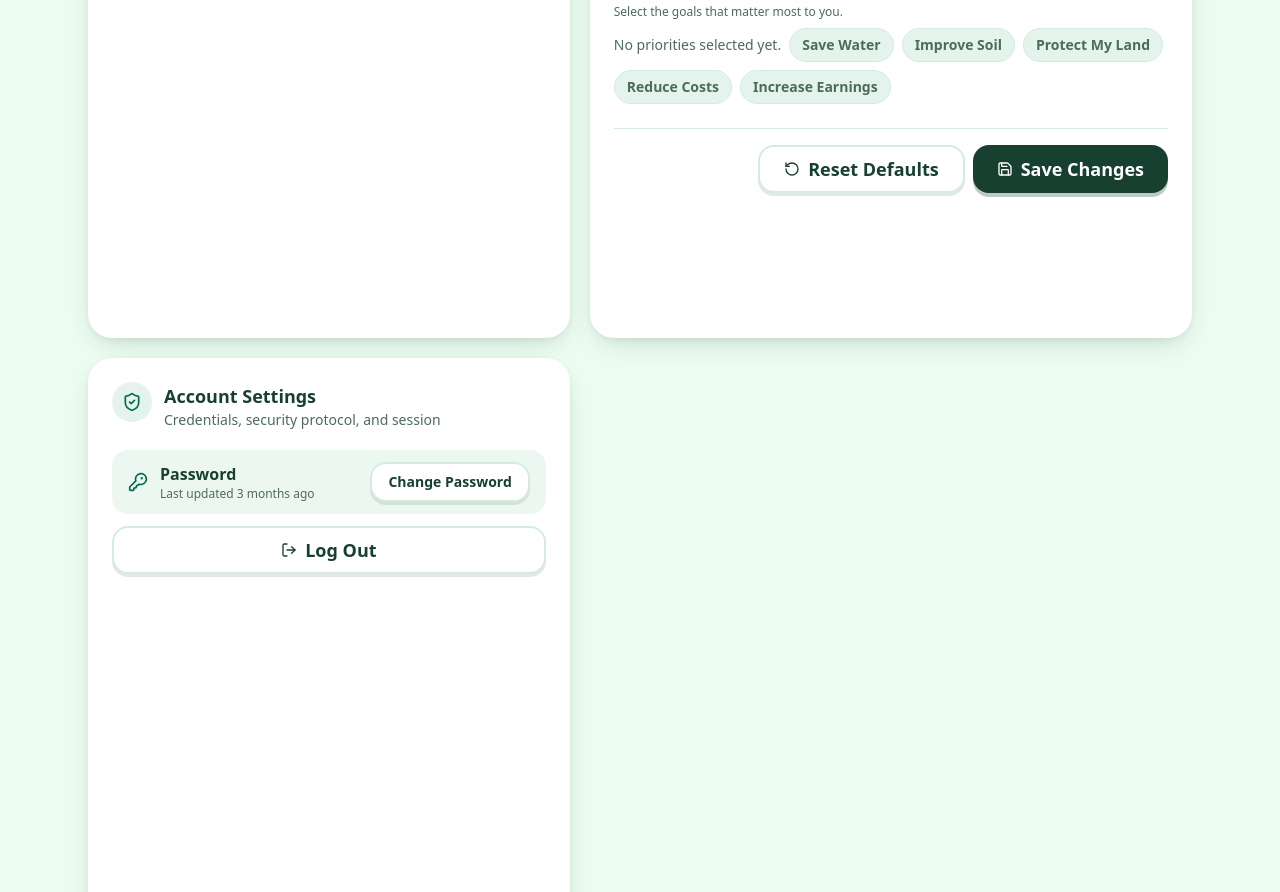
Test: profile page › changes the password and sends the farmer back to the login page
The image size is (1280, 892).
Later steps or results of the test are not shown.
(page scrolled)
Click the button "Change Password" at (450, 482), box [370,462,530,502]
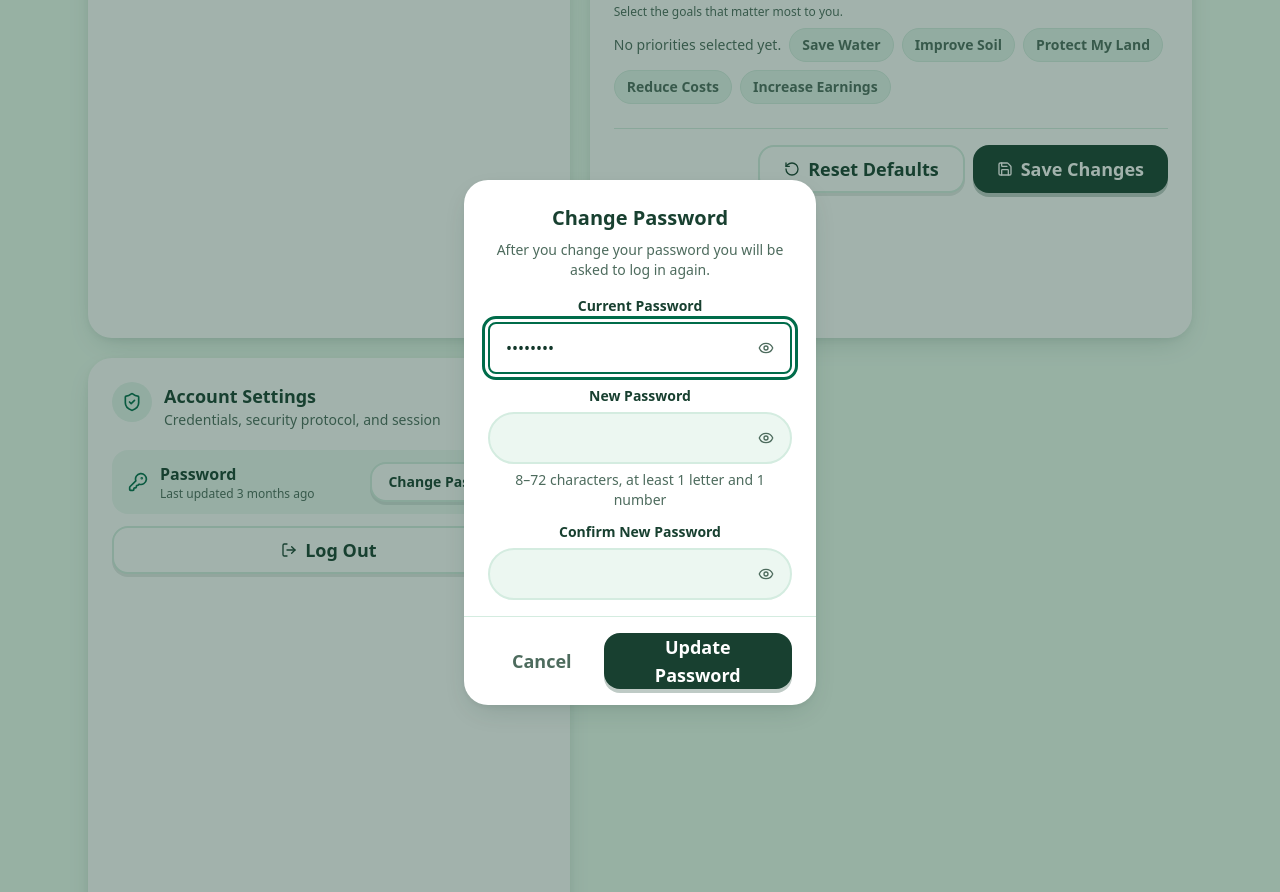
Expected: the password field named "currentPassword" is shown, [488,322,792,374]
